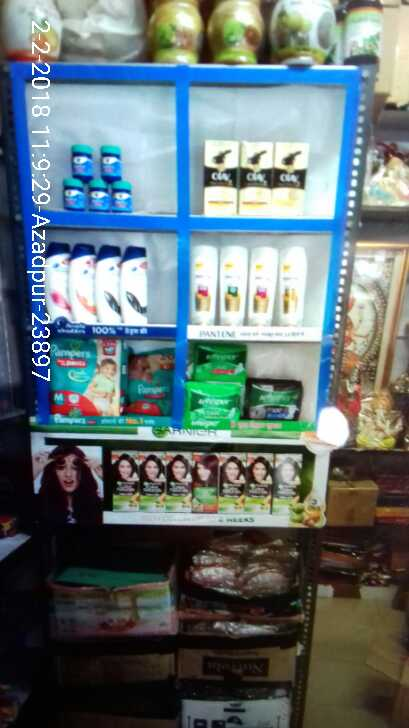vicks: (61, 141, 137, 214)
